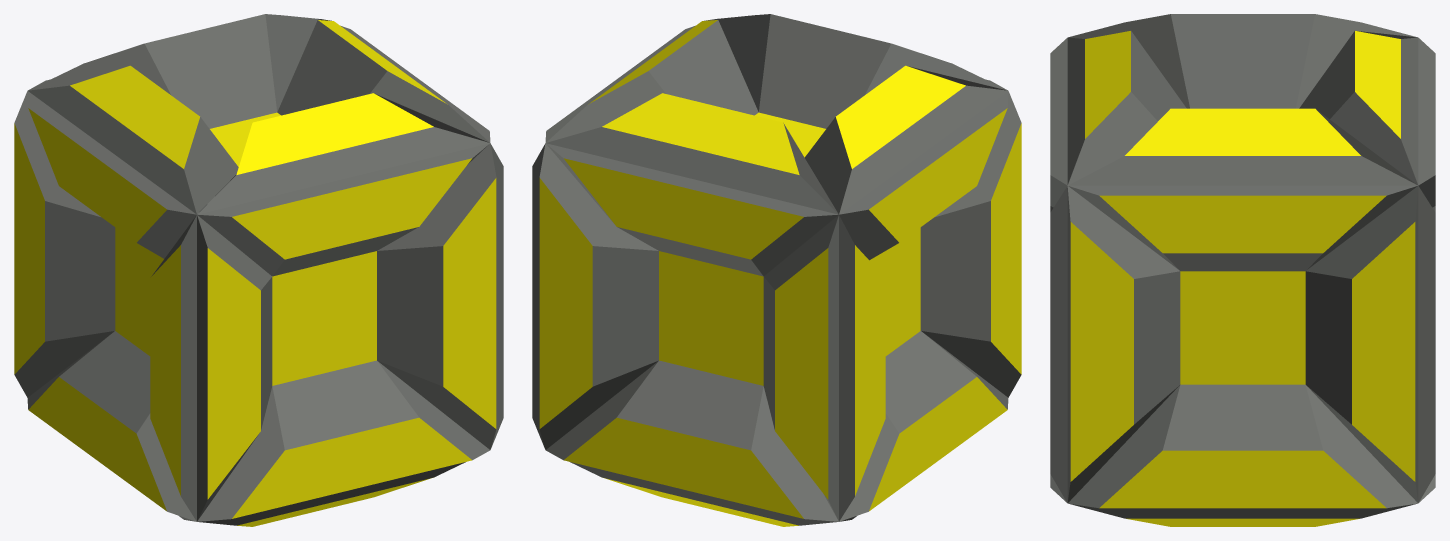
The model's file is VoltarisEssence.fbx.
3 renders of one model, left to right at view 1: azimuth 30°, elevation 25°; view 2: azimuth 150°, elevation 25°; view 3: azimuth 270°, elevation 25°, orthographic. The views are drawn at different scales.
Parts seen in each view (by area): view 1: Cube; view 2: Cube; view 3: Cube.
Part boxes in pixels (box(x1,y1,x2,y2)): Cube: box(14, 14, 503, 526); Cube: box(532, 14, 1021, 526); Cube: box(1050, 14, 1435, 526).
Bounding box in the file's own units: 177 × 212 × 177.
